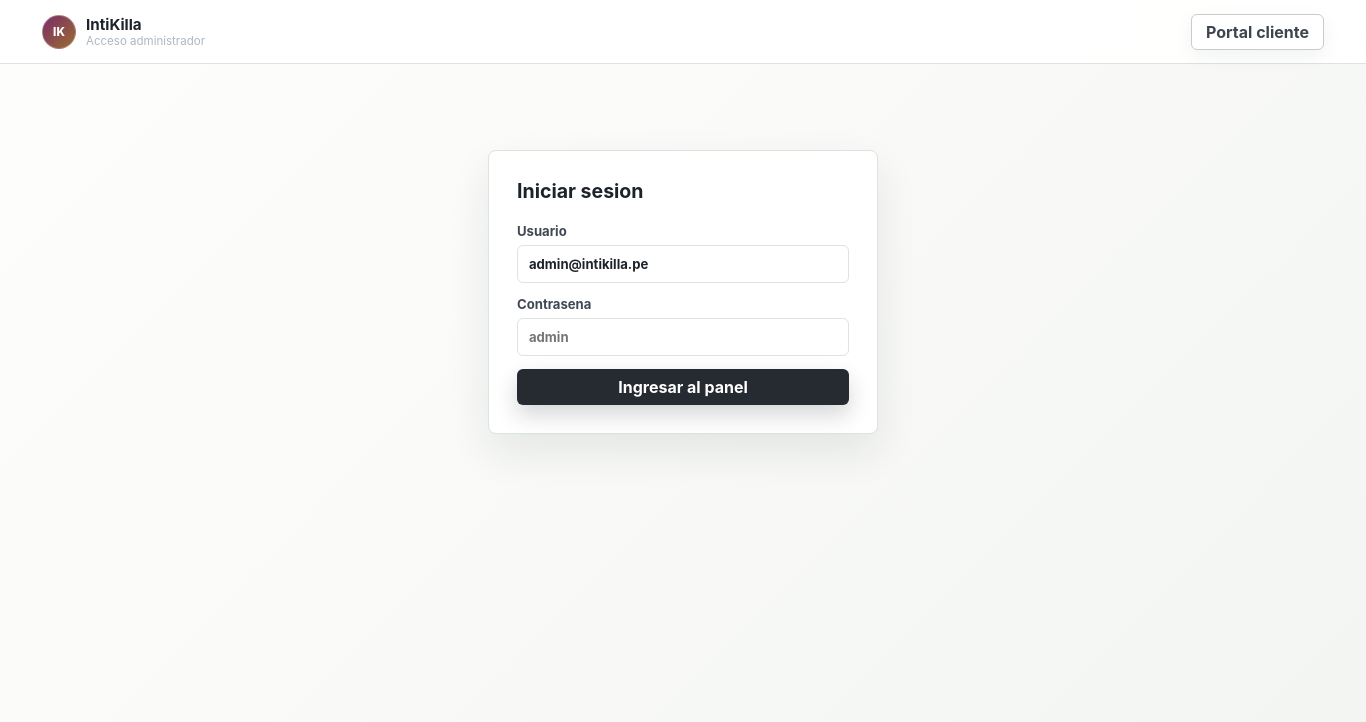
Test case: permite al administrador cancelar una reserva desde el listado
Type "admin" into the password field labelled "Contrasena". click: (683, 337)
box: [517,318,849,356]
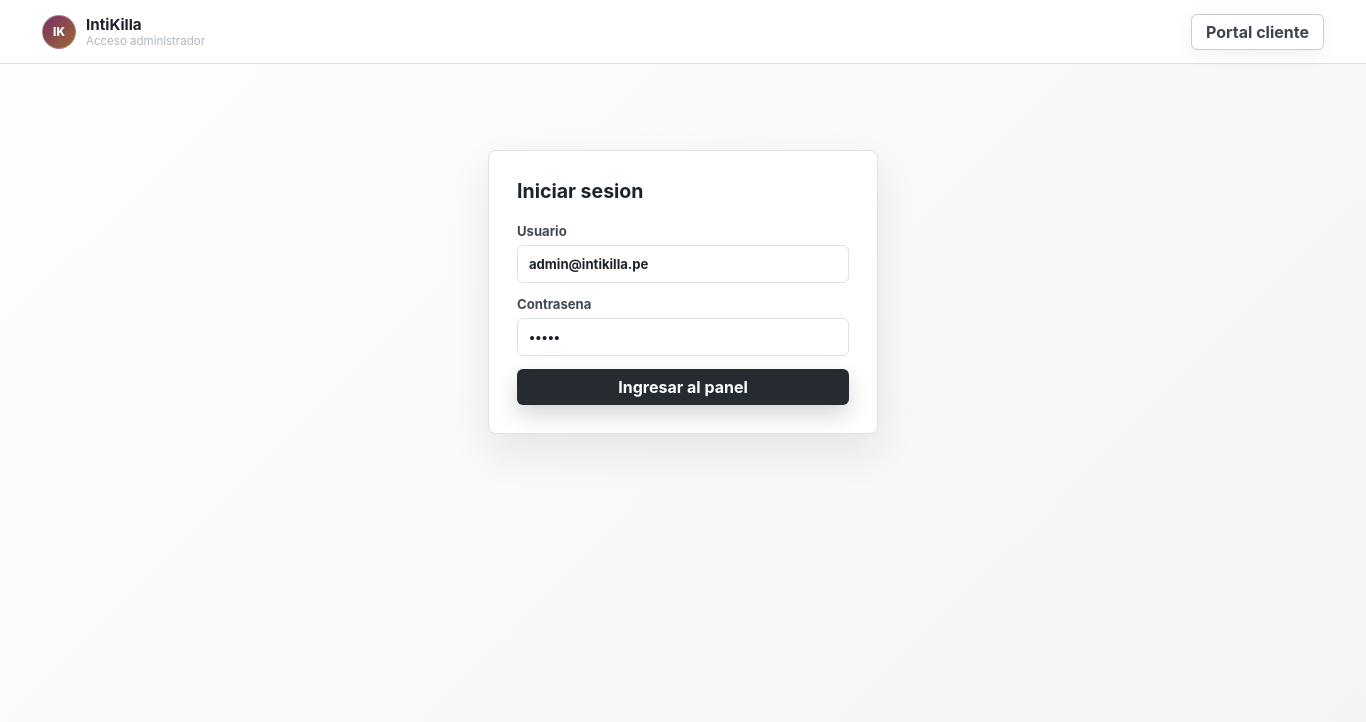
Click the button "Ingresar al panel". click: (683, 387)
box: [517,369,849,405]
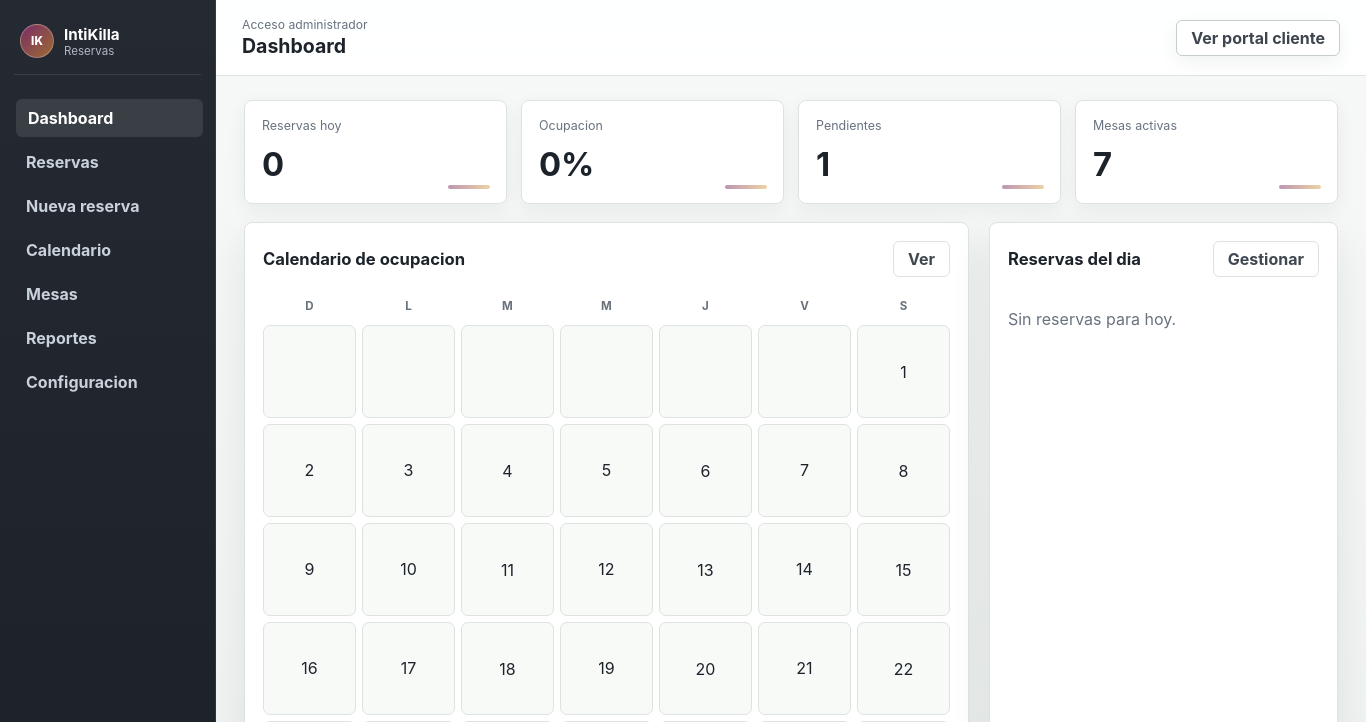
Click the button "Reservas". click: (108, 162)
box: [14,143,201,181]
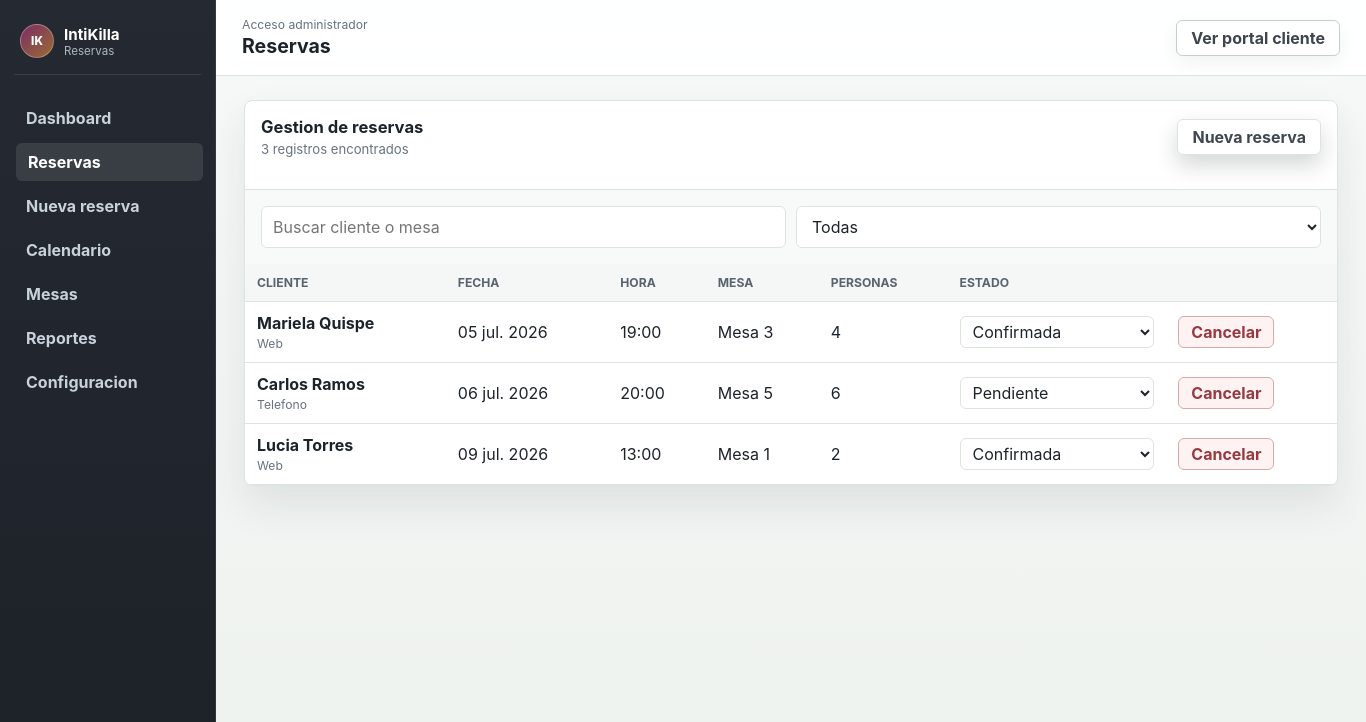
Click the button with aria-label "cancelar reserva de mariela quispe". click: (1226, 332)
box: [1178,316,1274,348]
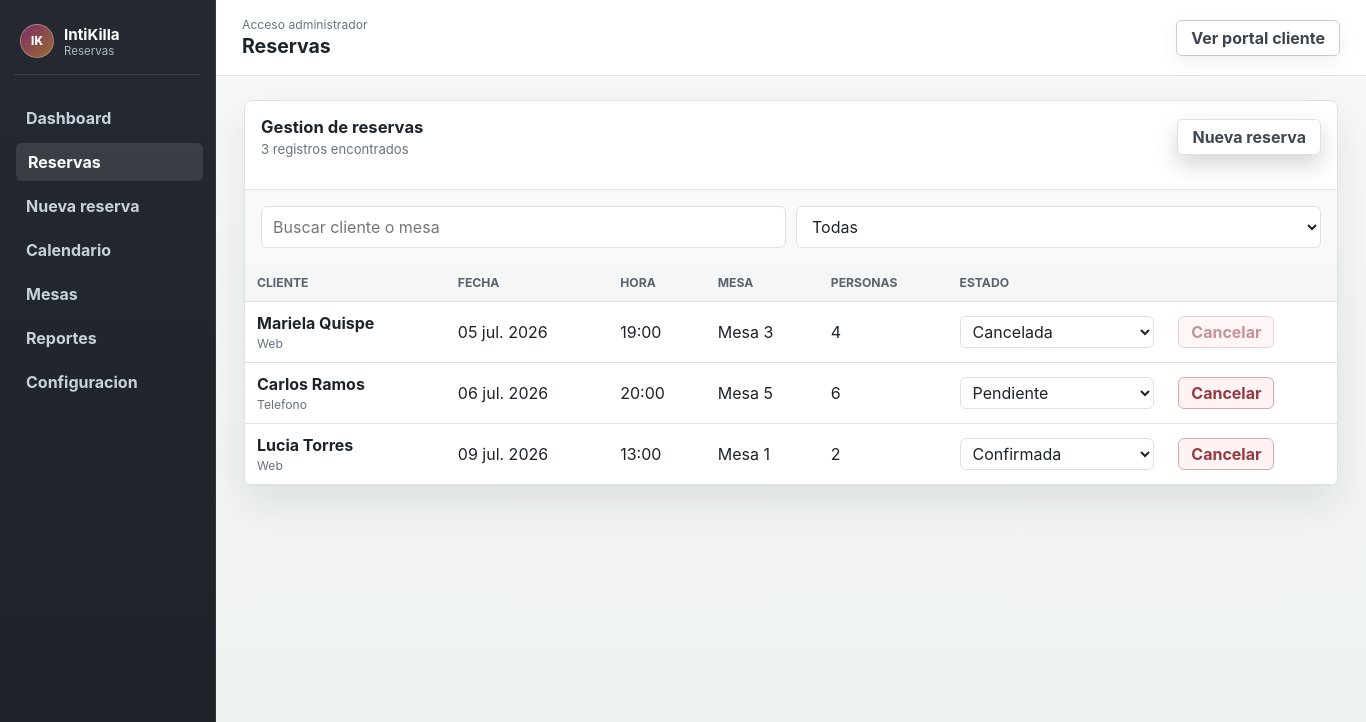
Result: the dropdown in the row of "Mariela Quispe" shows "Cancelada" at [960,316,1154,348]
